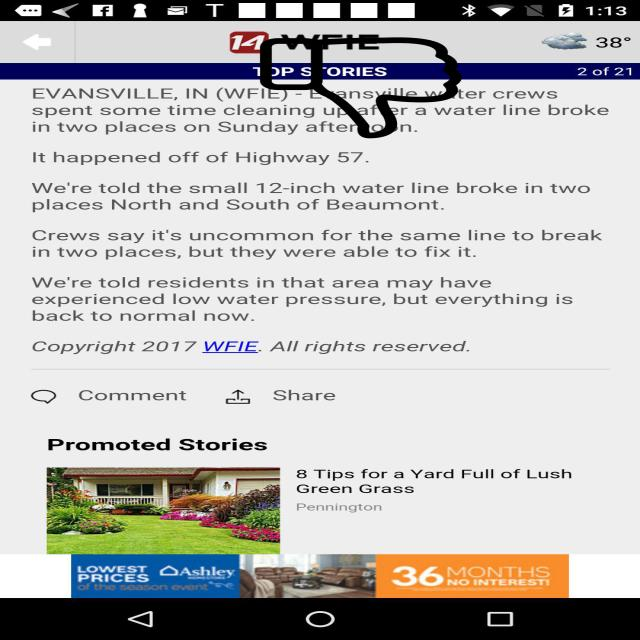obstruction: (257, 38, 465, 138)
